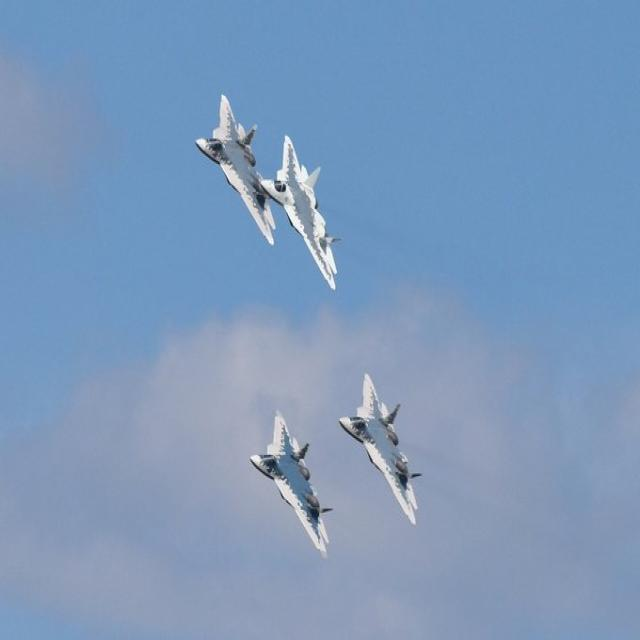MIL_Plane: (337, 372, 423, 527), (260, 134, 342, 291), (194, 93, 277, 246), (249, 410, 333, 560)
